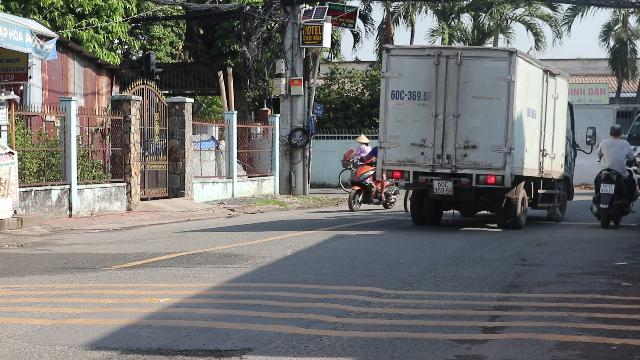licenseplate: (600, 184, 612, 192)
motorcyclist: (590, 124, 638, 226)
nohelmet: (608, 124, 622, 138)
